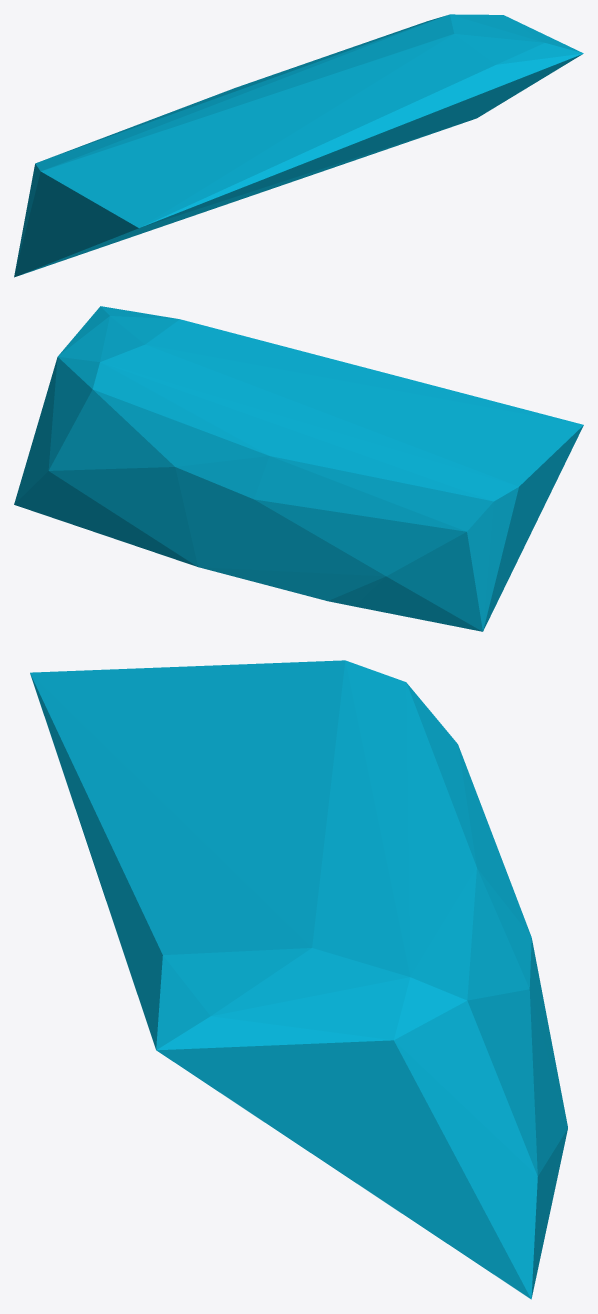
File: shoulder-roll-housing-mirror_convex_piece_006.obj
3 renders of one model, top to bottom at view 1: azimuth 30°, elevation 25°; view 2: azimuth 150°, elevation 25°; view 3: azimuth 270°, elevation 25°, orthographic. The views are drawn at different scales.
Bounding box in the file's own units: 0.0822 × 0.0281 × 0.0411.
